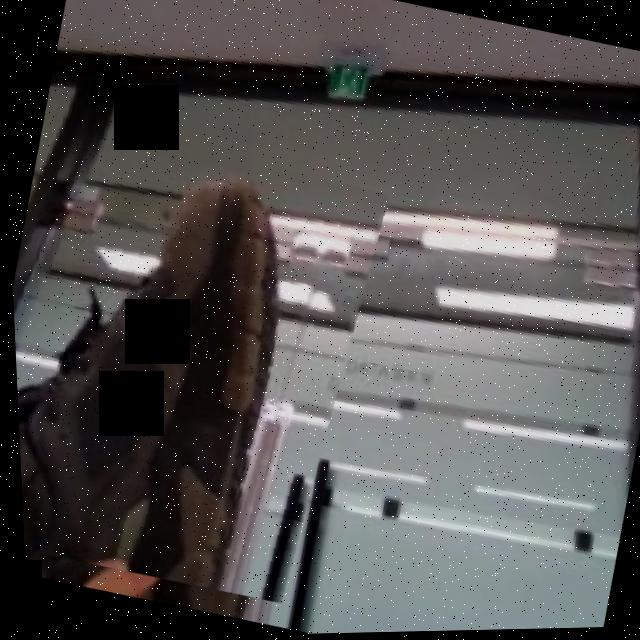shoe: (4, 96, 405, 615)
